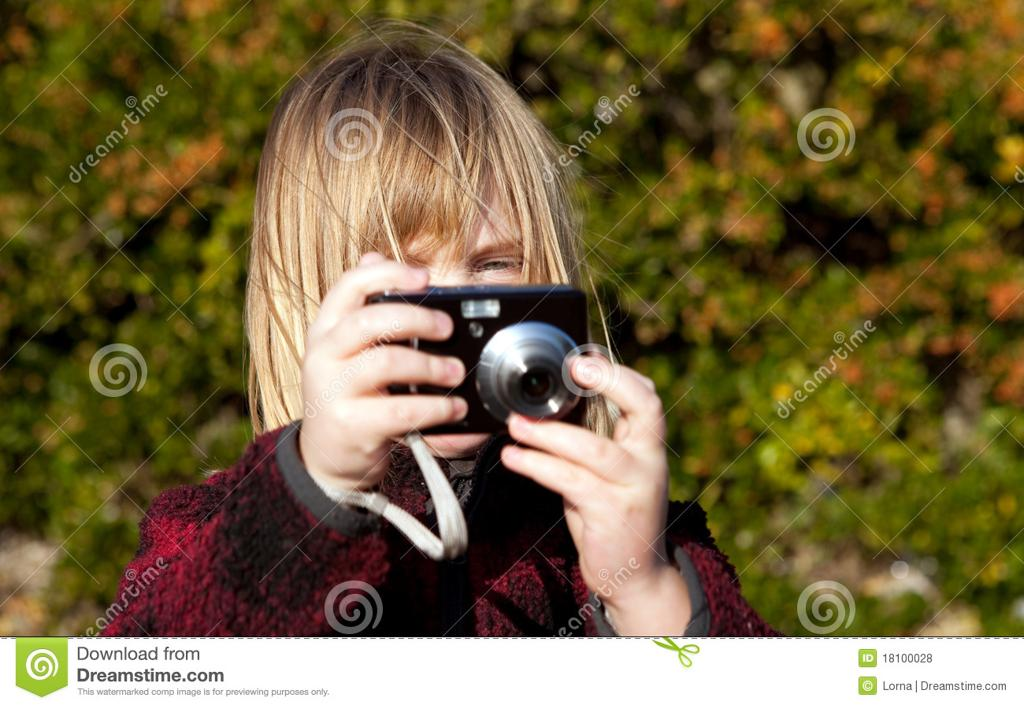face: (354, 164, 546, 450)
